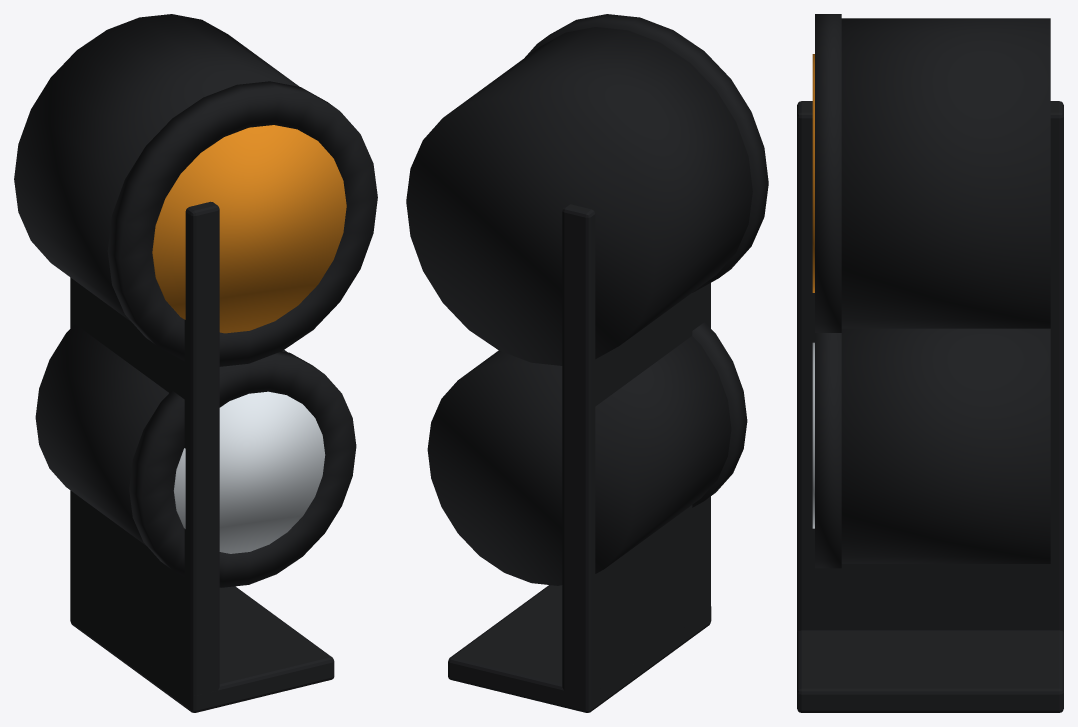
File: pillarPods_left.glb
3 views of the same model, side by side, from view 1: azimuth 30°, elevation 25°; view 2: azimuth 150°, elevation 25°; view 3: azimuth 270°, elevation 25° (orthographic). The views are drawn at different scales.
Visible parts, largest first — view 1: bracket1.008, hsg11205.001, bezel11205.001, lens11205.001, bezel11140.001, hsg11140.001, lens11140.001, foot1.005; view 2: hsg11205.001, hsg11140.001, bracket1.008, foot1.005, bezel11205.001, bezel11140.001; view 3: hsg11205.001, hsg11140.001, bracket1.008, foot1.005, bezel11205.001, bezel11140.001, lens11205.001, lens11140.001.
Part boxes in pixels (x1,y1,x2,y2): bracket1.008: (70,201,219,695); hsg11205.001: (14,14,299,321); bezel11205.001: (107,81,377,366); lens11205.001: (152,125,346,333); bezel11140.001: (129,351,356,587); hsg11140.001: (35,324,287,545); lens11140.001: (173,391,325,553); foot1.005: (70,586,334,712); hsg11205.001: (406,27,752,365); hsg11140.001: (427,336,731,585); bracket1.008: (562,204,710,695); foot1.005: (448,585,711,712); bezel11205.001: (525,14,768,292); bezel11140.001: (692,322,747,507); hsg11205.001: (841,18,1050,328); hsg11140.001: (841,328,1050,563); bracket1.008: (797,101,1063,631); foot1.005: (797,630,1063,712); bezel11205.001: (815,14,841,332); bezel11140.001: (815,333,841,568); lens11205.001: (812,54,814,292); lens11140.001: (812,342,814,528).
Bounding box in the file's own units: 0.072 × 0.16 × 0.06.
